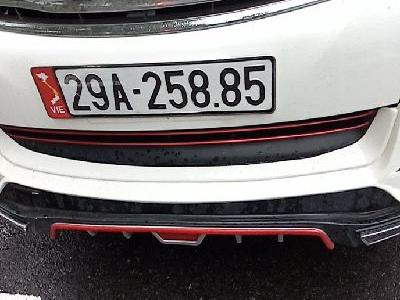number: (27, 60, 279, 119)
